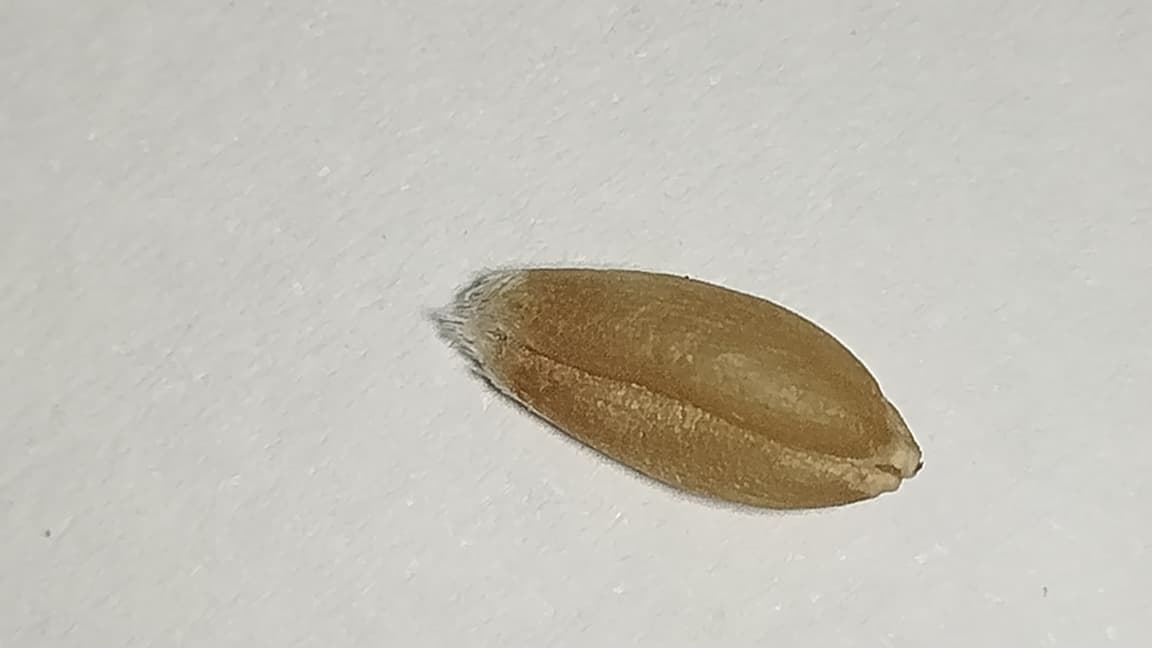healthy: (462, 266, 920, 508)
